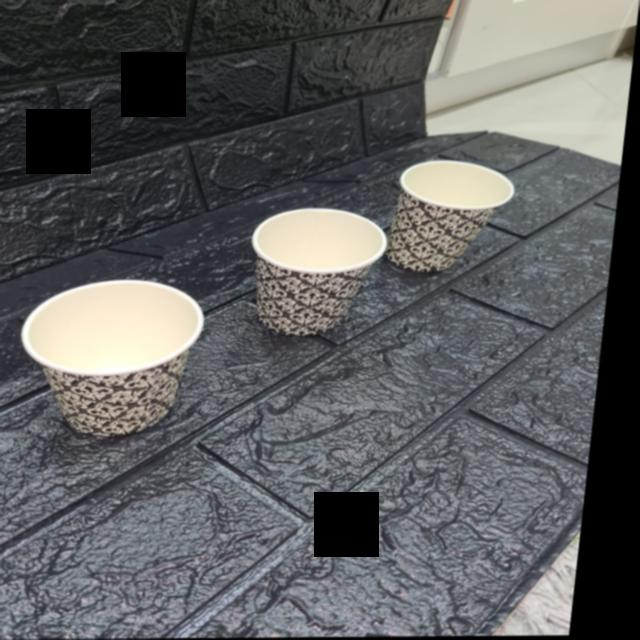cups: (22, 274, 218, 443), (247, 204, 397, 344), (394, 154, 540, 287)
